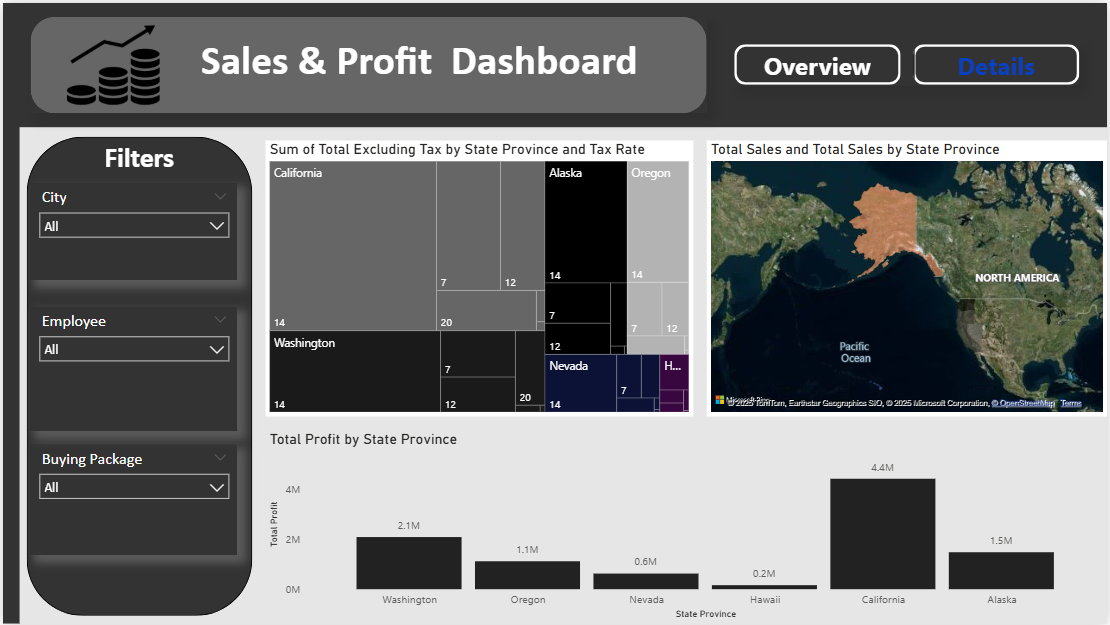

The page's visual inventory and layout, read from the dashboard file:
{"tool":"powerbi","page":{"name":"Details","canvas":[1280,720],"ordinal":1},"visuals":[{"type":"shape","box":[0,0,1280.3,144.1],"z":0},{"type":"shape","box":[0,144.1,19.2,576.3],"z":1000},{"type":"shape","box":[27,154.9,261.4,555.5],"z":2000},{"type":"textbox","box":[82.4,154.9,150.6,55.4],"z":3000},{"type":"slicer","fields":{"Values":["DimEmployee.Employee"]},"box":[32,352,240,144],"z":4000},{"type":"slicer","fields":{"Values":["DimCity.City"]},"box":[32,208,240,112],"z":5000},{"type":"slicer","fields":{"Values":["DimStockItem.Buying Package"]},"box":[32,512,240,128],"z":6000},{"type":"columnChart","fields":{"Category":["DimCity.State Province Hierarchy.State Province"],"Y":["Sum(FactSale.Profit)"]},"box":[304,496,976,224],"z":7000},{"type":"shape","box":[32,16,784,112],"z":8000},{"type":"textbox","box":[224,32,560,80],"z":9000},{"type":"pageNavigator","box":[848,48,400,48],"z":10000},{"type":"image","box":[48,0,160,144],"z":11000},{"type":"treemap","fields":{"Group":["DimCity.State Province"],"Details":["DimStockItem.Tax Rate"],"Values":["Sum(FactSale.Total Excluding Tax)"]},"box":[304,160,496,320],"z":12000},{"type":"filledMap","fields":{"Category":["DimCity.State Province"],"Y":["FactSale.Total Sales"]},"box":[816,160,464,320],"z":13000}]}

Visuals, with their boxes in screenshot pixels (x1, y1, x2, y2), scaled from the page's 1280x720 canvas onto the 1110x625 screenshot:
shape: x1=0 y1=0 x2=1109 y2=125
shape: x1=0 y1=125 x2=17 y2=624
shape: x1=23 y1=134 x2=250 y2=617
textbox: x1=71 y1=134 x2=202 y2=183
slicer - DimEmployee.Employee: x1=28 y1=306 x2=236 y2=431
slicer - DimCity.City: x1=28 y1=181 x2=236 y2=278
slicer - DimStockItem.Buying Package: x1=28 y1=444 x2=236 y2=556
columnChart - DimCity.State Province Hierarchy.State Province x Sum(FactSale.Profit): x1=264 y1=431 x2=1109 y2=624
shape: x1=28 y1=14 x2=708 y2=111
textbox: x1=194 y1=28 x2=680 y2=97
pageNavigator: x1=735 y1=42 x2=1082 y2=83
image: x1=42 y1=0 x2=180 y2=125
treemap - DimCity.State Province x DimStockItem.Tax Rate: x1=264 y1=139 x2=694 y2=417
filledMap - DimCity.State Province x FactSale.Total Sales: x1=708 y1=139 x2=1109 y2=417
